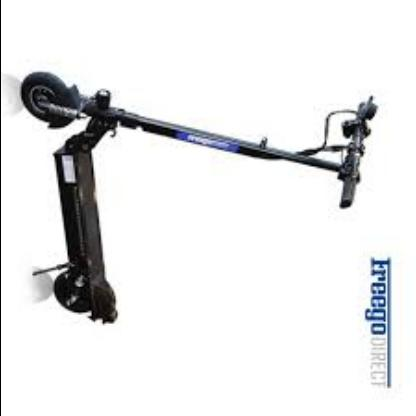bike: (21, 71, 393, 327)
